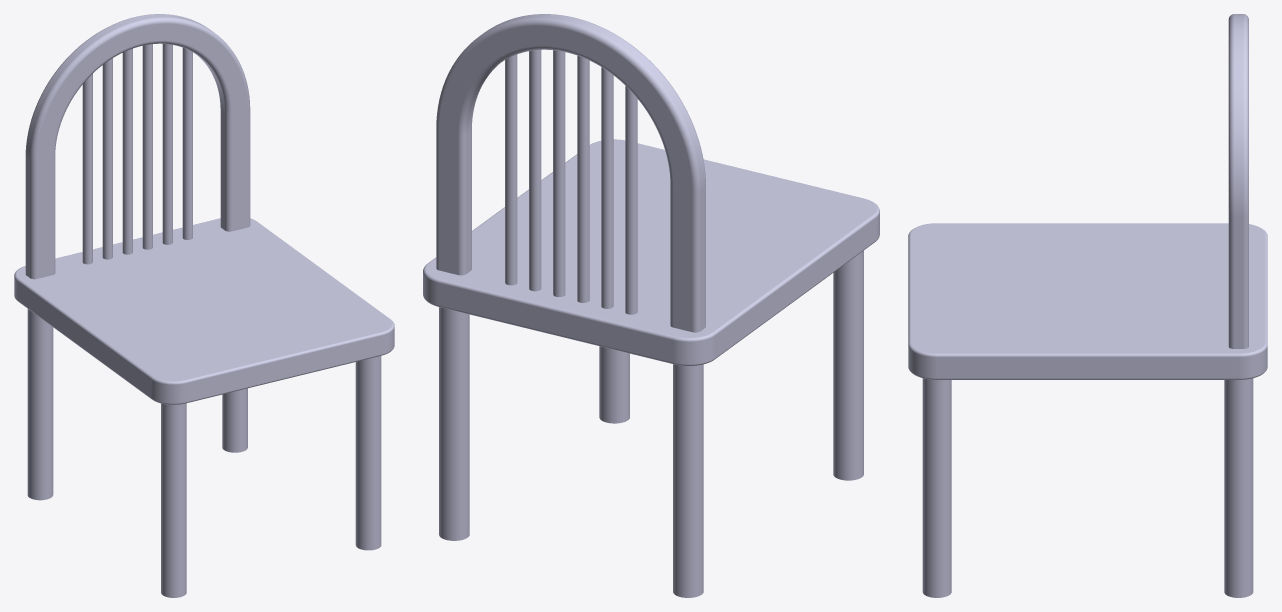
The model's file is chair01.gltf.
3 renders of one model, left to right at view 1: azimuth 30°, elevation 25°; view 2: azimuth 150°, elevation 25°; view 3: azimuth 270°, elevation 25°, orthographic. The views are drawn at different scales.
Parts seen in each view (by area): view 1: chair01_clone; view 2: chair01_clone; view 3: chair01_clone.
Boxes of the visible parts, left/top/right/bottom form: chair01_clone: left=14, top=14, right=394, bottom=597; chair01_clone: left=423, top=14, right=879, bottom=597; chair01_clone: left=908, top=14, right=1267, bottom=597.
Bounding box in the file's own units: 0.54 × 0.9717 × 0.62.
